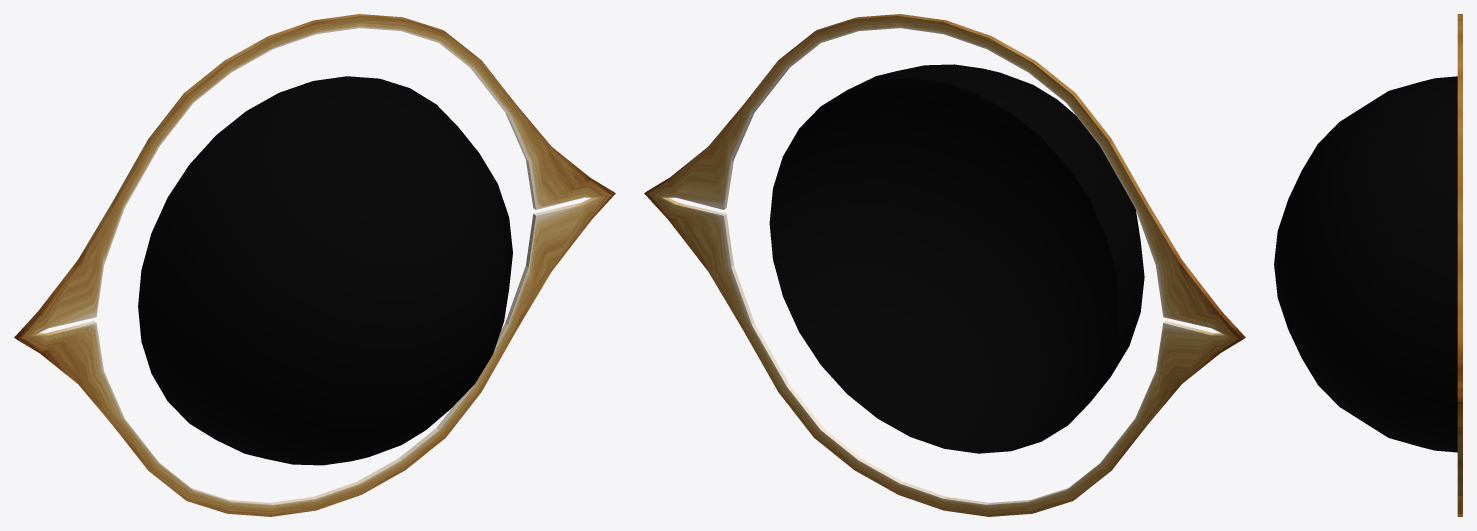
Rendered from BlackHoleBody.fbx.
3 renders of one model, left to right at view 1: azimuth 30°, elevation 25°; view 2: azimuth 150°, elevation 25°; view 3: azimuth 270°, elevation 25°, orthographic. The views are drawn at different scales.
Parts seen in each view (by area): view 1: BlackHole; view 2: BlackHole; view 3: BlackHole.
Boxes of the visible parts, x1,y1,x2,y2 form: BlackHole: (14,14,615,516); BlackHole: (644,14,1245,516); BlackHole: (1274,14,1462,516).
Bounding box in the file's own units: 101 × 78.75 × 29.54.
